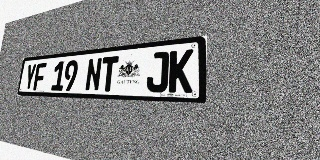1: (51, 61, 66, 91)
9: (63, 60, 79, 91)
F: (33, 63, 47, 90)
J: (146, 51, 169, 92)
K: (168, 49, 194, 93)
N: (85, 57, 102, 91)
T: (100, 56, 119, 92)
Y: (24, 64, 37, 90)
